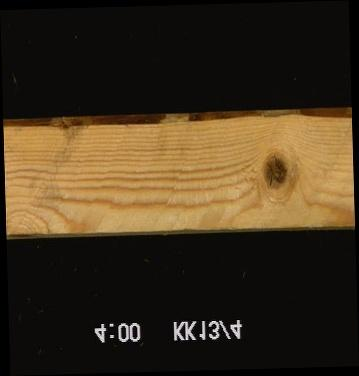sound_knot: (260, 152, 289, 190)
wave: (2, 111, 351, 124)
